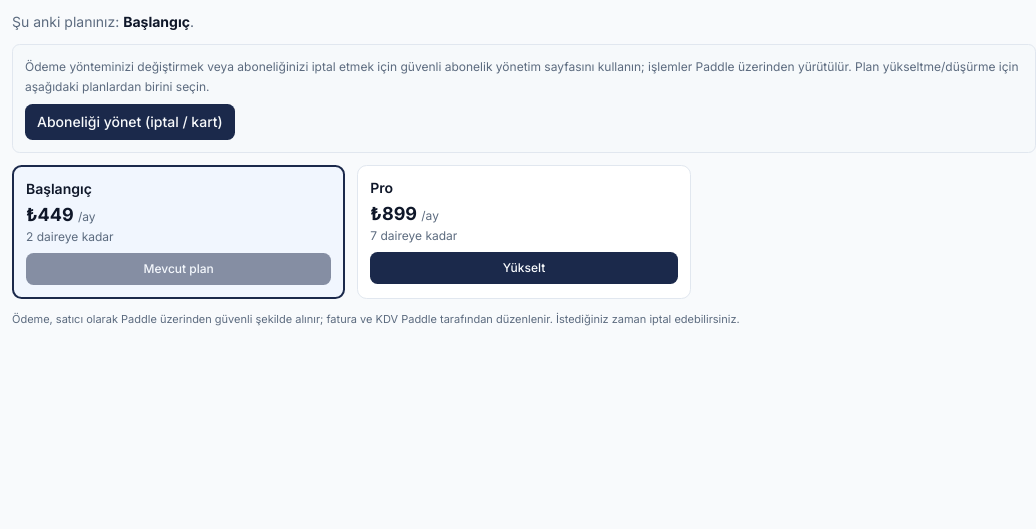
Test: PaddlePlans — plan değişikliği onayı › KONTROL: başka bir 4xx/5xx (ör. 502) paneli kapatmaz — tutar aynı belirteçle yeniden onaylanabilir
Click the button "Yükselt".
click(524, 268)  # box x1=370 y1=252 x2=678 y2=284
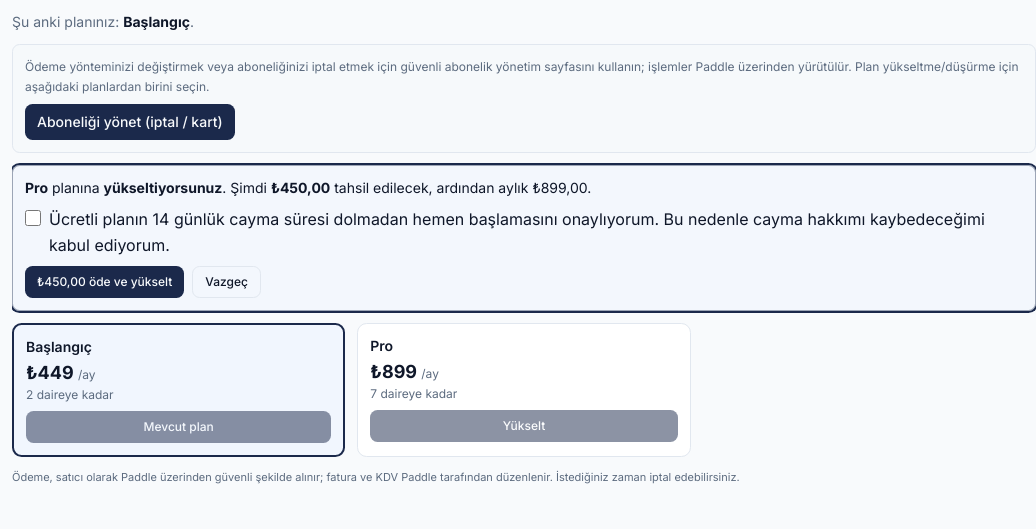
Click the checkbox named "consent-upgrade-immediateStart".
click(33, 218)  # box x1=25 y1=210 x2=41 y2=226
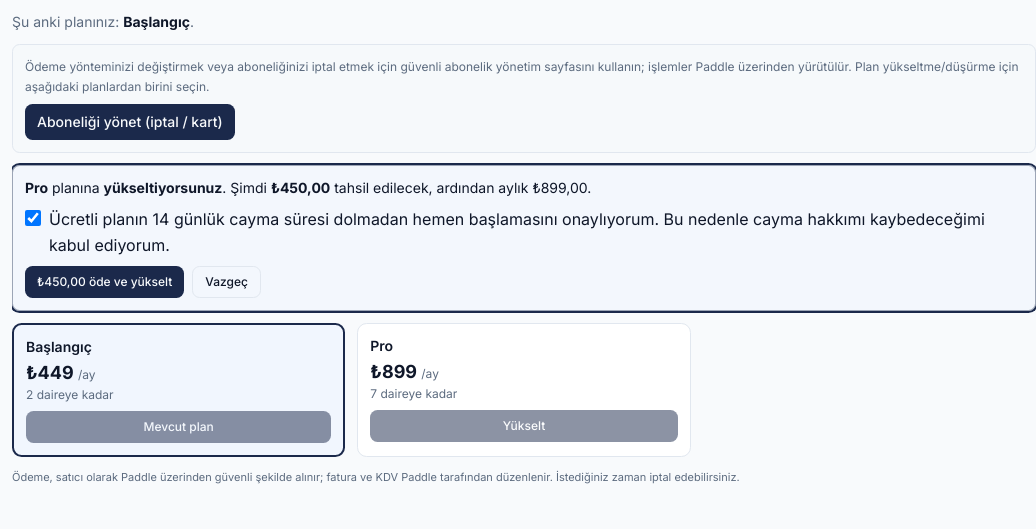
Click the button "₺450,00 öde ve yükselt".
click(105, 282)  # box x1=25 y1=266 x2=184 y2=298
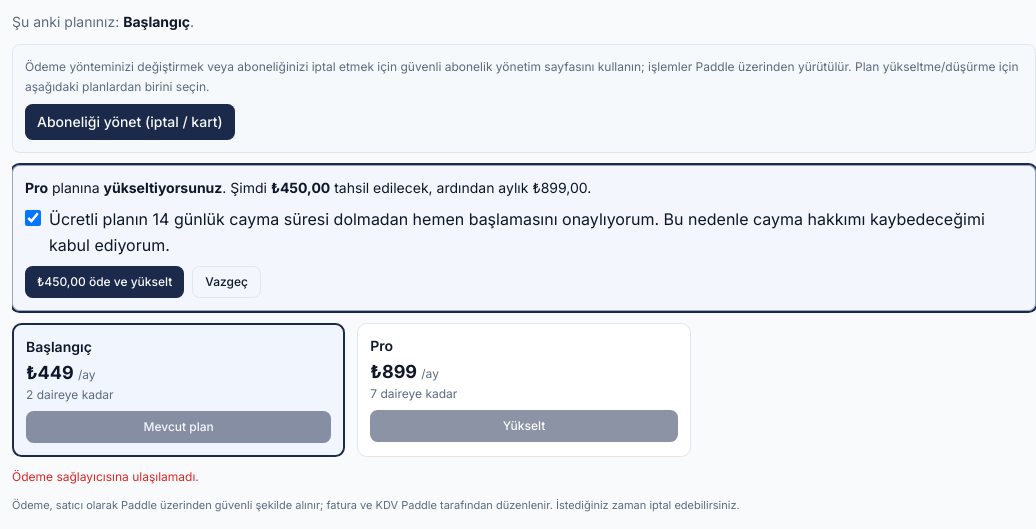
expect the button "₺450,00 öde ve yükselt" is shown: met, box x1=25 y1=266 x2=184 y2=298
expect the text "Ödeme sağlayıcısına ulaşılamadı." is shown: met, box x1=12 y1=469 x2=199 y2=484
